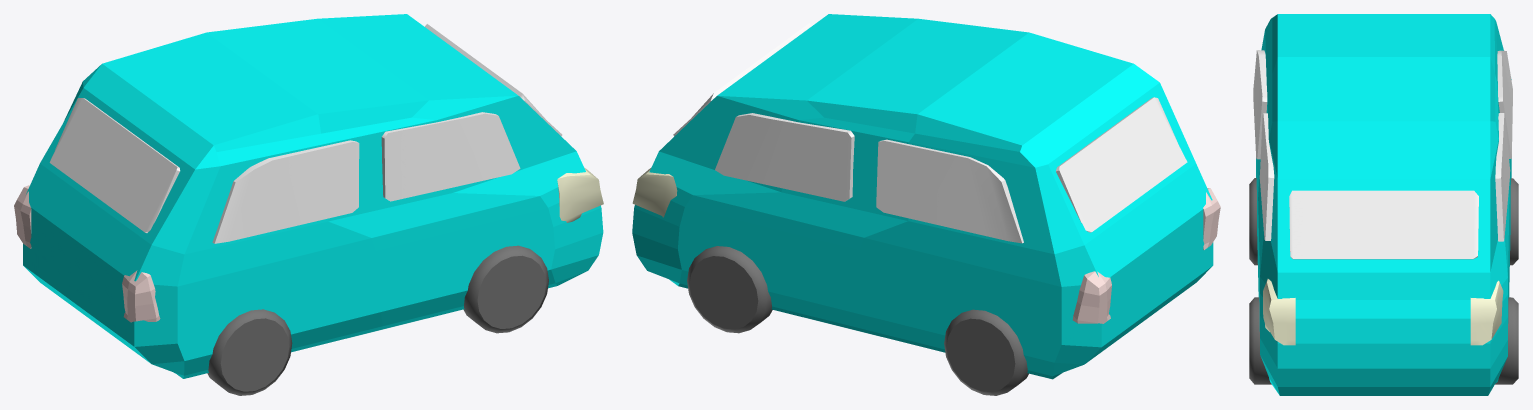
The model's file is CarroAzul.fbx.
3 renders of one model, left to right at view 1: azimuth 30°, elevation 25°; view 2: azimuth 150°, elevation 25°; view 3: azimuth 270°, elevation 25°, orthographic. The views are drawn at different scales.
Visible parts, largest first — view 1: pCube1, pCube7, pCube10, pCube8, pCylinder1, pCylinder2, pCube11, pCube9, pCube6; view 2: pCube1, pCube4, pCube10, pCube12, pCylinder3, pCylinder4, pCube11, pCube9, pCube6; view 3: pCube1, pCube6, pCube9, pCube12, pCube8, pCube4, pCube7, pCylinder1, pCylinder3, pCylinder4, pCylinder2.
Part boxes in pixels (x1,y1,x2,y2): pCube1: [23, 14, 603, 378]; pCube7: [212, 140, 359, 243]; pCube10: [49, 98, 180, 232]; pCube8: [381, 112, 520, 201]; pCylinder1: [463, 245, 548, 333]; pCylinder2: [207, 309, 292, 395]; pCube11: [14, 185, 160, 322]; pCube9: [557, 168, 603, 222]; pCube6: [425, 24, 562, 136]; pCube1: [632, 14, 1213, 379]; pCube4: [876, 139, 1023, 243]; pCube10: [1056, 97, 1187, 232]; pCube12: [715, 113, 854, 201]; pCylinder3: [687, 246, 772, 333]; pCylinder4: [944, 309, 1028, 395]; pCube11: [1072, 188, 1220, 323]; pCube9: [632, 168, 677, 217]; pCube6: [673, 23, 811, 136]; pCube1: [1256, 14, 1511, 395]; pCube6: [1289, 190, 1478, 259]; pCube9: [1263, 279, 1503, 345]; pCube12: [1495, 113, 1510, 241]; pCube8: [1259, 113, 1274, 240]; pCube4: [1497, 50, 1512, 158]; pCube7: [1253, 50, 1267, 159]; pCylinder1: [1249, 297, 1271, 384]; pCylinder3: [1495, 297, 1518, 384]; pCylinder4: [1510, 178, 1518, 265]; pCylinder2: [1249, 178, 1257, 265].
Bounding box in the file's own units: 21.46 × 10.94 × 11.09.
